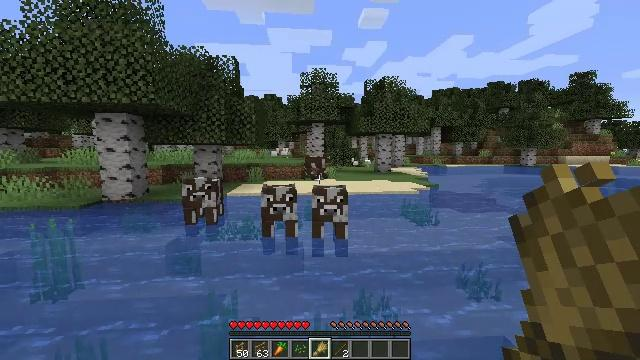chicken: (271, 148, 279, 160), (281, 147, 289, 158), (351, 158, 359, 168), (364, 158, 370, 168)
cow: (261, 184, 298, 238), (312, 184, 348, 239), (182, 177, 223, 225), (306, 155, 330, 180)
